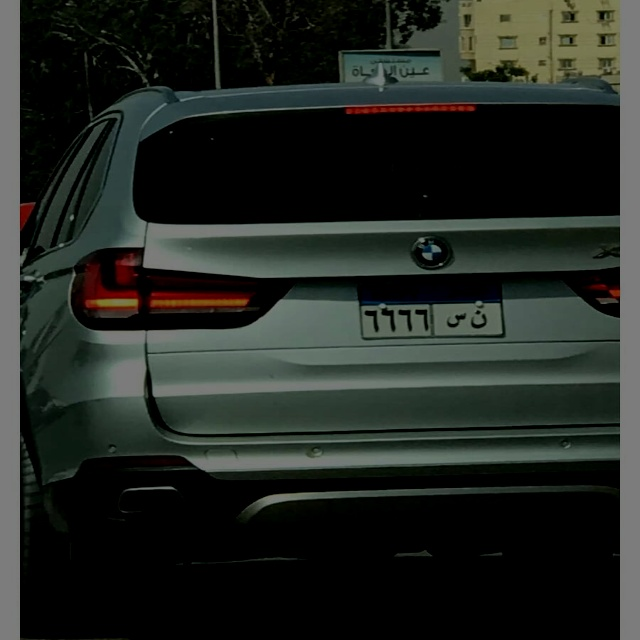License Plate: (356, 280, 506, 342)
